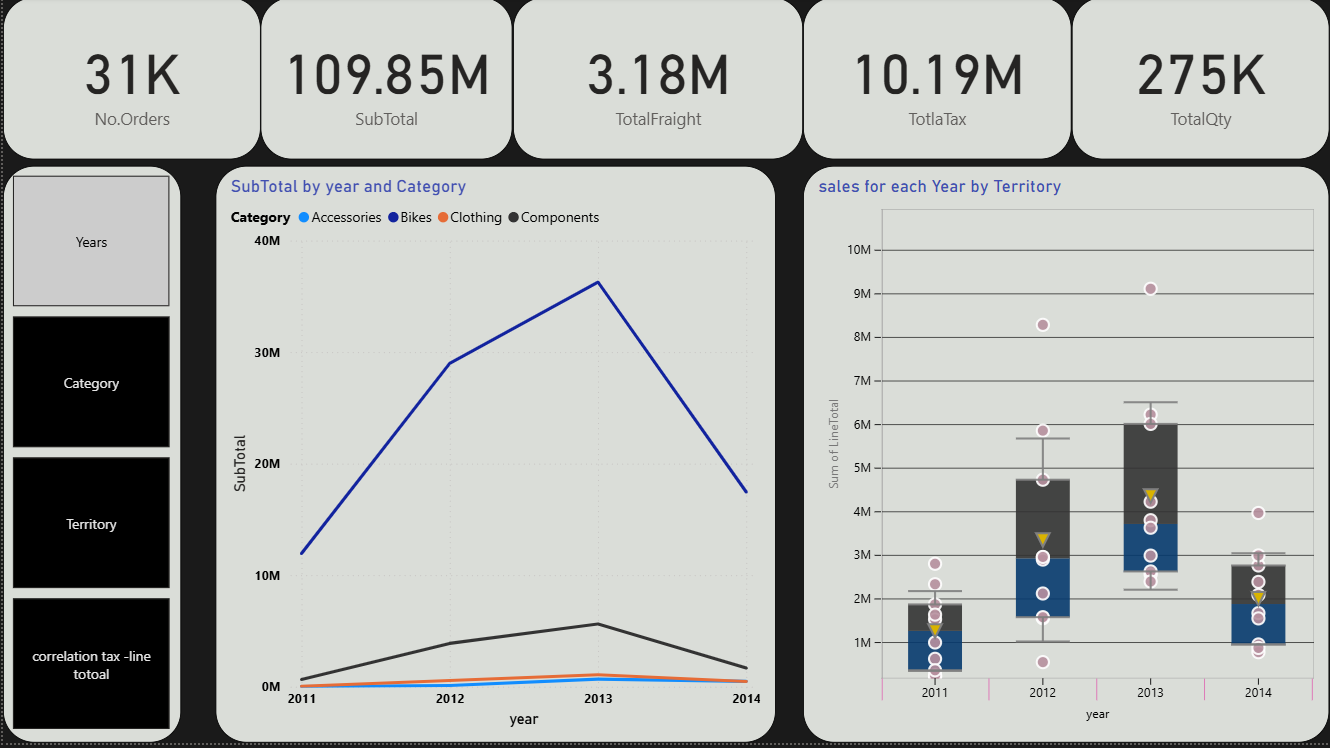

What the dashboard file says about the page in this screenshot:
{"tool":"powerbi","page":{"name":"Years","canvas":[1280,720],"ordinal":0},"visuals":[{"type":"card","fields":{"Values":["measuresTable.No.Orders"]},"box":[0,0,248.9,156.4],"z":0},{"type":"card","fields":{"Values":["measuresTable.SubTotal"]},"box":[248.9,0,243.2,156.4],"z":1000},{"type":"card","fields":{"Values":["measuresTable.TotalFraight"]},"box":[492.1,0,280.2,156.4],"z":2000},{"type":"card","fields":{"Values":["measuresTable.TotlaTax"]},"box":[772.3,0,258.8,156.4],"z":3000},{"type":"card","fields":{"Values":["measuresTable.TotalQty"]},"box":[1031.1,0,248.9,156.4],"z":4000},{"type":"BoxandWhiskerByMAQ1823AD39DT234AB532063E128AX","title":"sales for each Year by Territory","fields":{"categoryGroup":["DimDate.year"],"measure":["Sum(vw_FactOrderDetails.LineTotal)"],"category":["vw_DimTerritories.Territory"]},"box":[771.9,163,507.9,556.9],"z":5000},{"type":"pageNavigator","box":[0,163,171.7,556.9],"z":6000},{"type":"lineChart","fields":{"Category":["DimDate.year"],"Y":["measuresTable.SubTotal"],"Series":["vw_DimProducts.Category"]},"box":[204.9,163,541,556.9],"z":7000}]}

Visuals, with their boxes in screenshot pixels (x1, y1, x2, y2), scaled from the page's 1280x720 canvas onto the 1330x748 screenshot:
card - measuresTable.No.Orders: box=[0, 0, 259, 162]
card - measuresTable.SubTotal: box=[259, 0, 511, 162]
card - measuresTable.TotalFraight: box=[511, 0, 802, 162]
card - measuresTable.TotlaTax: box=[802, 0, 1071, 162]
card - measuresTable.TotalQty: box=[1071, 0, 1329, 162]
"sales for each Year by Territory" BoxandWhiskerByMAQ1823AD39DT234AB532063E128AX: box=[802, 169, 1329, 747]
pageNavigator: box=[0, 169, 178, 747]
lineChart - DimDate.year x measuresTable.SubTotal: box=[213, 169, 775, 747]
